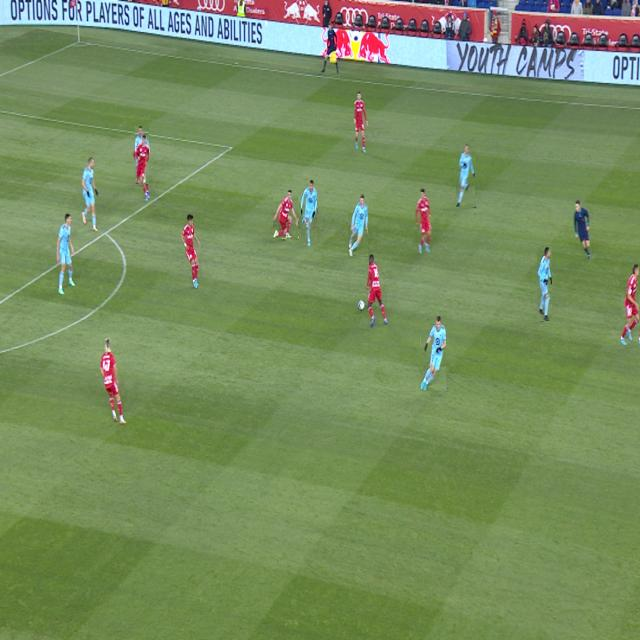football: (359, 300, 364, 310)
player: (100, 337, 127, 424), (421, 317, 446, 391), (57, 213, 76, 295), (621, 265, 640, 346), (367, 255, 388, 327), (181, 214, 201, 289), (81, 158, 98, 232), (349, 194, 368, 256), (457, 144, 475, 207), (274, 191, 298, 238), (415, 189, 432, 254), (133, 137, 150, 201), (301, 180, 317, 245), (538, 247, 552, 321), (353, 92, 368, 153), (135, 127, 149, 184)
referee: (575, 200, 591, 260)
